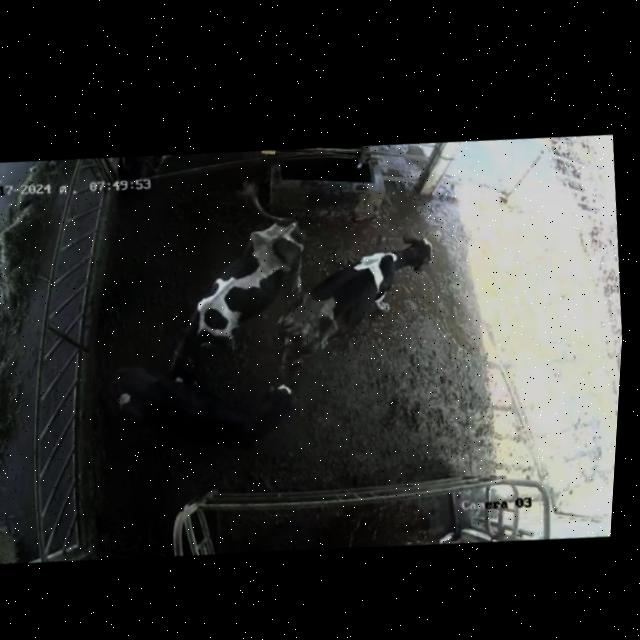stand: (262, 210, 472, 400), (148, 193, 323, 381), (86, 337, 309, 476)
